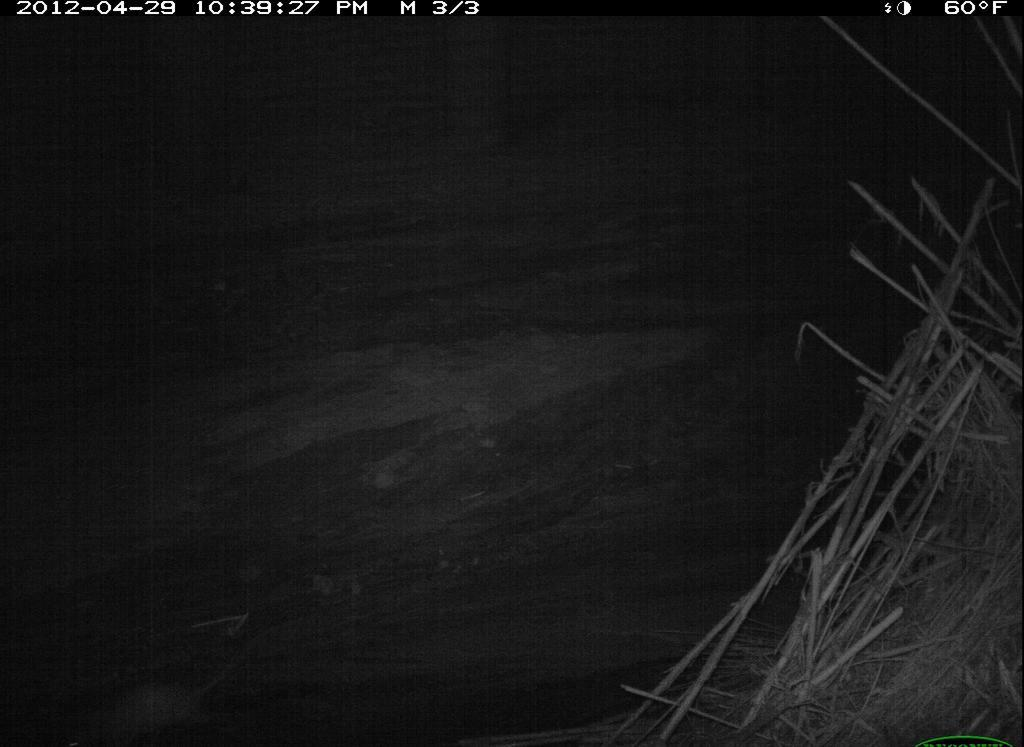opossum: (52, 641, 271, 747)
